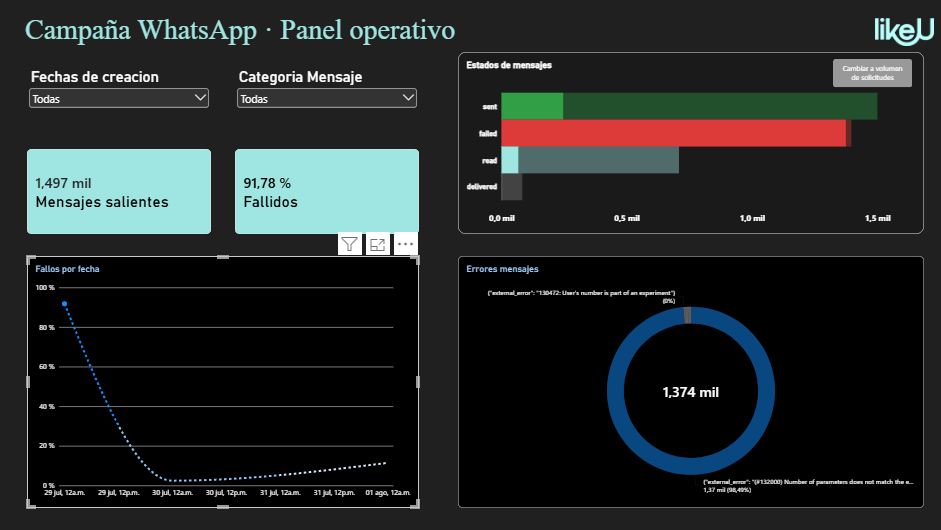

The page's visual inventory and layout, read from the dashboard file:
{"tool":"powerbi","page":{"name":"Pagina Principal","canvas":[1920,1080],"ordinal":0},"visuals":[{"type":"textbox","box":[0,27.7,1020,73.3],"z":0},{"type":"image","box":[1738,38,182,56],"z":1000},{"type":"slicer","fields":{"Values":["mensajes.Fecha"]},"box":[74,138,368.3,125],"z":2000},{"type":"cardVisual","title":"Mensajes salientes","fields":{"Data":["mensajes.Mensajes salientes"]},"box":[74,300,368,170],"z":3000},{"type":"cardVisual","fields":{"Data":["mensajes.Failed"]},"box":[490,300,368,170],"z":4000},{"type":"slicer","fields":{"Values":["mensajes.message_type"]},"box":[490,138,368.3,125],"z":5000},{"type":"clusteredBarChart","title":"Estados de mensajes","fields":{"Category":["mensajes.status"],"Y":["CountNonNull(mensajes.status)"]},"box":[936,106,932,364],"z":6000},{"type":"lineChart","title":"Fallos por fecha","fields":{"Category":["mensajes.Fecha"],"Y":["mensajes.Failed"]},"box":[73.3,513.3,784,504],"z":8000},{"type":"donutChart","title":"Errores mensajes","fields":{"Category":["mensajes.content_attributes"],"Y":["CountNonNull(mensajes.Errores_Agrupados)"]},"box":[936,514,932,504],"z":9000},{"type":"actionButton","title":"Cambiar a Volumen de solicitudes","box":[1686.7,120,158.3,56.7],"z":10000}]}

Visuals, with their boxes in screenshot pixels (x1, y1, x2, y2), scaled from the page's 1920x1080 canvas onto the 941x530 screenshot:
textbox: locate(0, 14, 500, 50)
image: locate(852, 19, 940, 46)
slicer - mensajes.Fecha: locate(36, 68, 217, 129)
"Mensajes salientes" cardVisual: locate(36, 147, 217, 231)
cardVisual - mensajes.Failed: locate(240, 147, 421, 231)
slicer - mensajes.message_type: locate(240, 68, 421, 129)
"Estados de mensajes" clusteredBarChart: locate(459, 52, 916, 231)
"Fallos por fecha" lineChart: locate(36, 252, 420, 499)
"Errores mensajes" donutChart: locate(459, 252, 916, 500)
"Cambiar a Volumen de solicitudes" actionButton: locate(827, 59, 904, 87)
